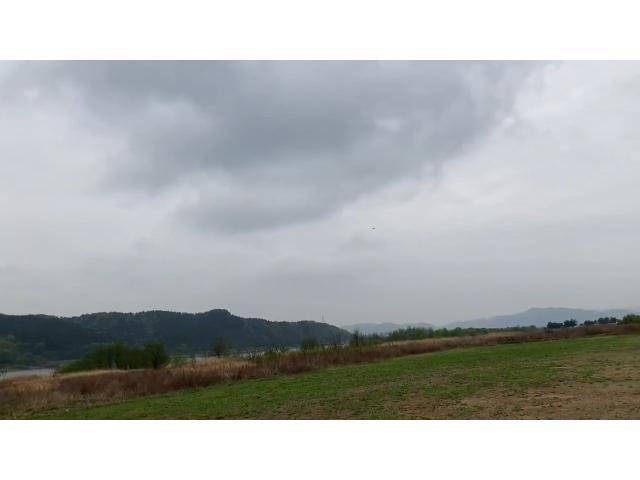Anti-Drone: (366, 224, 380, 232)
